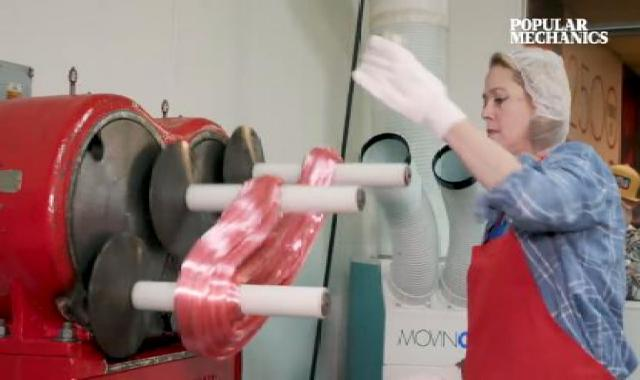hairnet: (468, 44, 586, 149)
